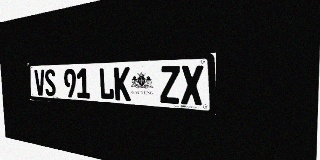1: (76, 68, 90, 99)
9: (64, 69, 77, 98)
K: (114, 67, 131, 101)
L: (99, 67, 114, 100)
S: (44, 69, 56, 96)
V: (34, 69, 45, 96)
X: (181, 65, 203, 106)
Z: (159, 66, 180, 104)
